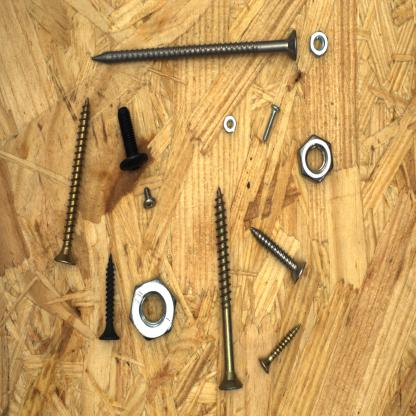screw: (86, 26, 304, 68), (211, 183, 247, 394), (52, 93, 92, 268), (247, 223, 308, 287), (256, 317, 304, 376), (114, 104, 151, 176), (96, 248, 123, 346), (261, 99, 284, 144), (140, 184, 162, 214)
